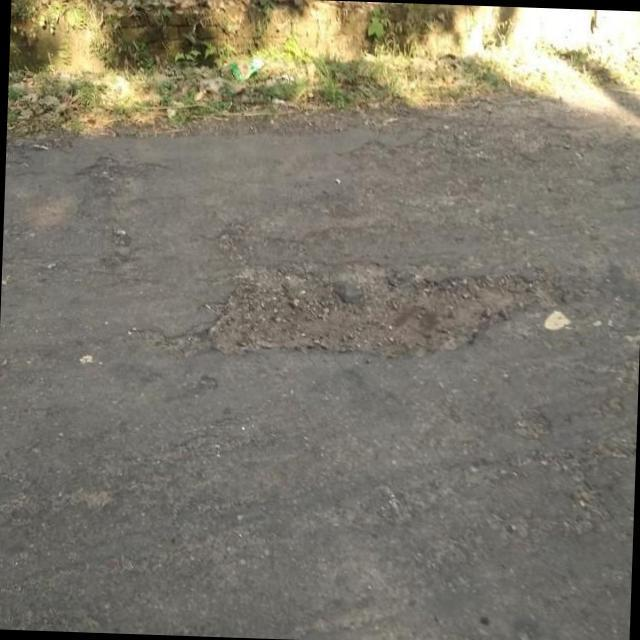Pothole: (157, 229, 563, 354)
